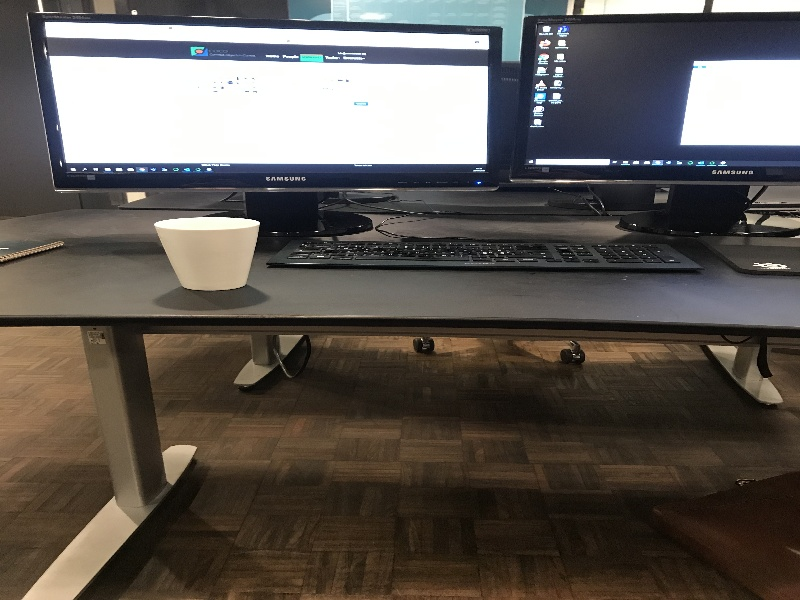cup: (154, 220, 259, 292)
keyboard: (277, 236, 698, 273)
tv: (35, 12, 501, 195), (517, 18, 800, 185)
